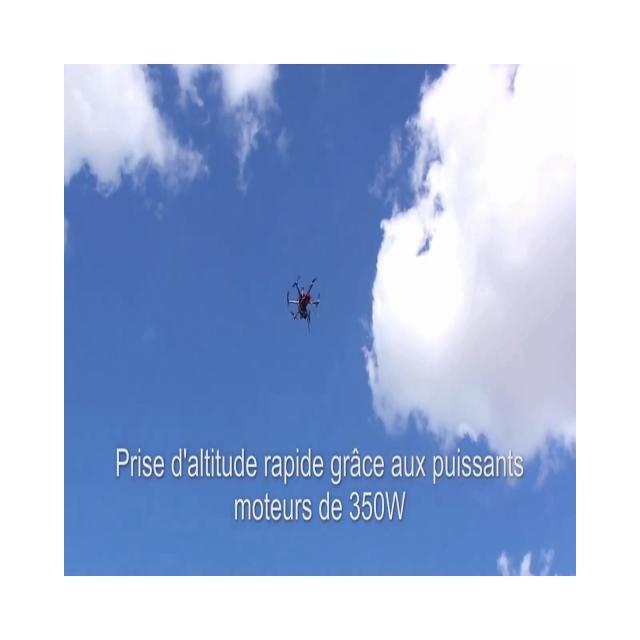drone: (286, 274, 320, 333)
